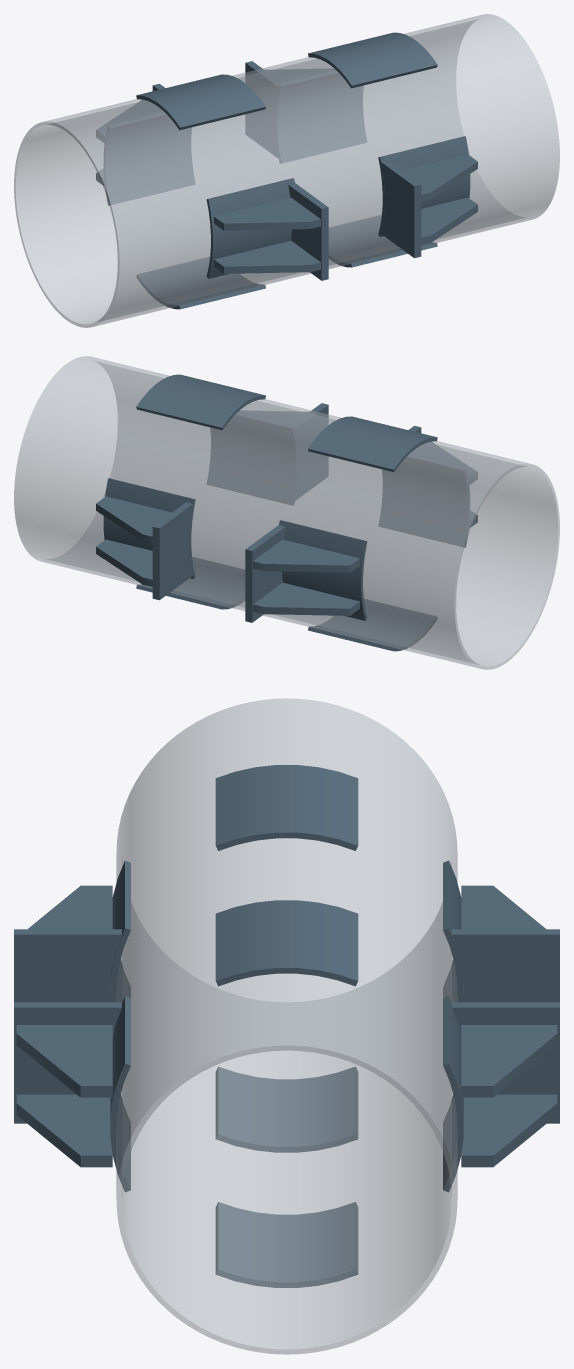
The model's file is TS-663.00.00-04-opora-dn426.glb.
3 renders of one model, top to bottom at view 1: azimuth 30°, elevation 25°; view 2: azimuth 150°, elevation 25°; view 3: azimuth 270°, elevation 25°, orthographic. The views are drawn at different scales.
Visible parts, largest first — view 1: truba, det_12, det_16, det_18, det_17, det_8, det_20, det_1, det_19, det_6, det_4, det_7 (+6 smaller); view 2: truba, det_4, det_8, det_18, det_17, det_16, det_20, det_9, det_19, det_15, det_12, det_14 (+6 smaller); view 3: truba, det_17, det_18, det_19, det_20, det_5, det_13, det_2, det_11, det_3, det_10, det_1 (+7 smaller).
Part boxes in pixels (bbox=[...]): truba: bbox=[14, 14, 559, 327]; det_12: bbox=[275, 70, 366, 163]; det_16: bbox=[104, 112, 194, 205]; det_18: bbox=[136, 74, 265, 130]; det_17: bbox=[308, 32, 437, 88]; det_8: bbox=[206, 178, 294, 278]; det_20: bbox=[136, 257, 265, 309]; det_1: bbox=[381, 160, 421, 258]; det_19: bbox=[329, 215, 437, 267]; det_6: bbox=[214, 197, 320, 230]; det_4: bbox=[378, 136, 470, 236]; det_7: bbox=[214, 240, 320, 273]; truba: bbox=[14, 356, 559, 669]; det_4: bbox=[207, 412, 298, 505]; det_8: bbox=[379, 454, 469, 547]; det_18: bbox=[308, 416, 437, 472]; det_17: bbox=[136, 374, 265, 430]; det_16: bbox=[279, 520, 367, 620]; det_20: bbox=[308, 599, 437, 651]; det_9: bbox=[152, 502, 192, 600]; det_19: bbox=[136, 557, 244, 609]; det_15: bbox=[253, 539, 359, 572]; det_12: bbox=[103, 478, 195, 578]; det_14: bbox=[253, 582, 359, 615]; truba: bbox=[116, 698, 457, 1354]; det_17: bbox=[215, 900, 358, 986]; det_18: bbox=[215, 765, 358, 850]; det_19: bbox=[215, 1202, 358, 1287]; det_20: bbox=[215, 1066, 358, 1152]; det_5: bbox=[14, 929, 121, 1002]; det_13: bbox=[452, 929, 559, 1002]; det_2: bbox=[16, 1025, 112, 1097]; det_11: bbox=[461, 1025, 557, 1097]; det_3: bbox=[16, 1094, 112, 1167]; det_10: bbox=[461, 1094, 557, 1167]; det_1: bbox=[14, 1002, 121, 1123].
Size of the model in its own units: 1026 by 441 by 682.
